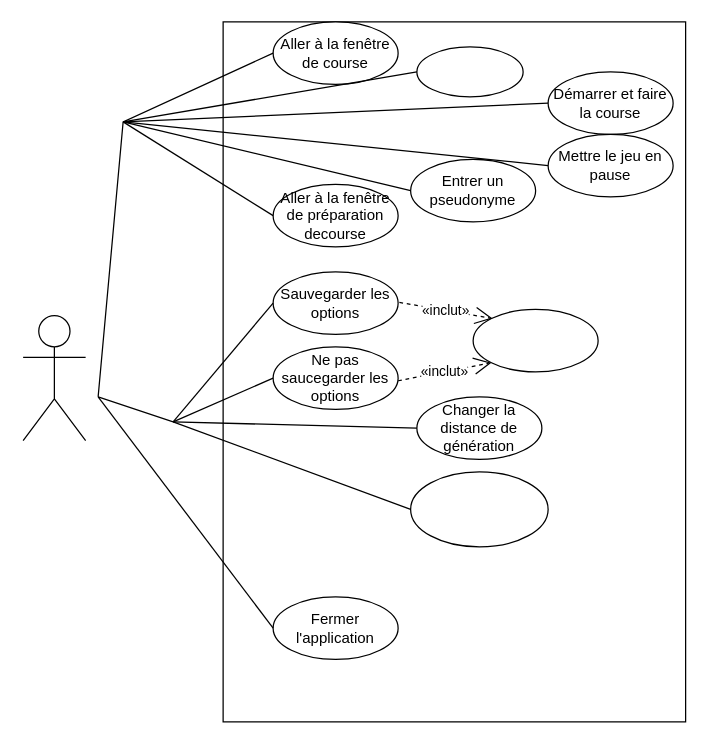
Some shapes in this 708 by 744 pixel diagram are drawn without their labels. Each missing label, with the box of its shape:
Ajuster la hauteur de la caméra par rapport au sol: (409, 471, 548, 547)
Retourner à la fenêtre principale: (472, 308, 598, 372)
Utilisateur: (22, 314, 86, 441)
Voir les meilleurs scores: (416, 46, 523, 97)
